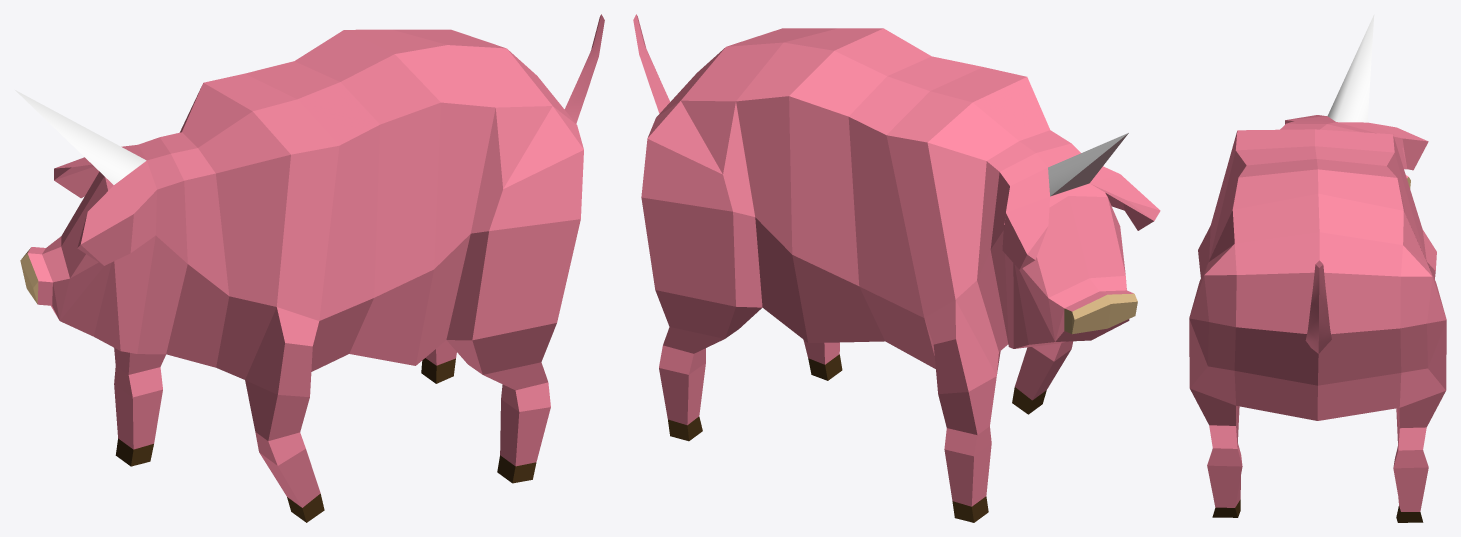
Rendered from pigRunning12.obj.
3 views of the same model, side by side, from view 1: azimuth 30°, elevation 25°; view 2: azimuth 150°, elevation 25°; view 3: azimuth 270°, elevation 25° (orthographic). The views are drawn at different scales.
Parts seen in each view (by area): view 1: Pig_Cylinder.002_Pig_Cylinder.003; view 2: Pig_Cylinder.002_Pig_Cylinder.003; view 3: Pig_Cylinder.002_Pig_Cylinder.003.
Part boxes in pixels (x1=…): Pig_Cylinder.002_Pig_Cylinder.003: x1=15, y1=14, x2=604, y2=522; Pig_Cylinder.002_Pig_Cylinder.003: x1=633, y1=14, x2=1160, y2=522; Pig_Cylinder.002_Pig_Cylinder.003: x1=1189, y1=14, x2=1446, y2=522.
Bounding box in the file's own units: 22.29 × 16.18 × 11.11.
